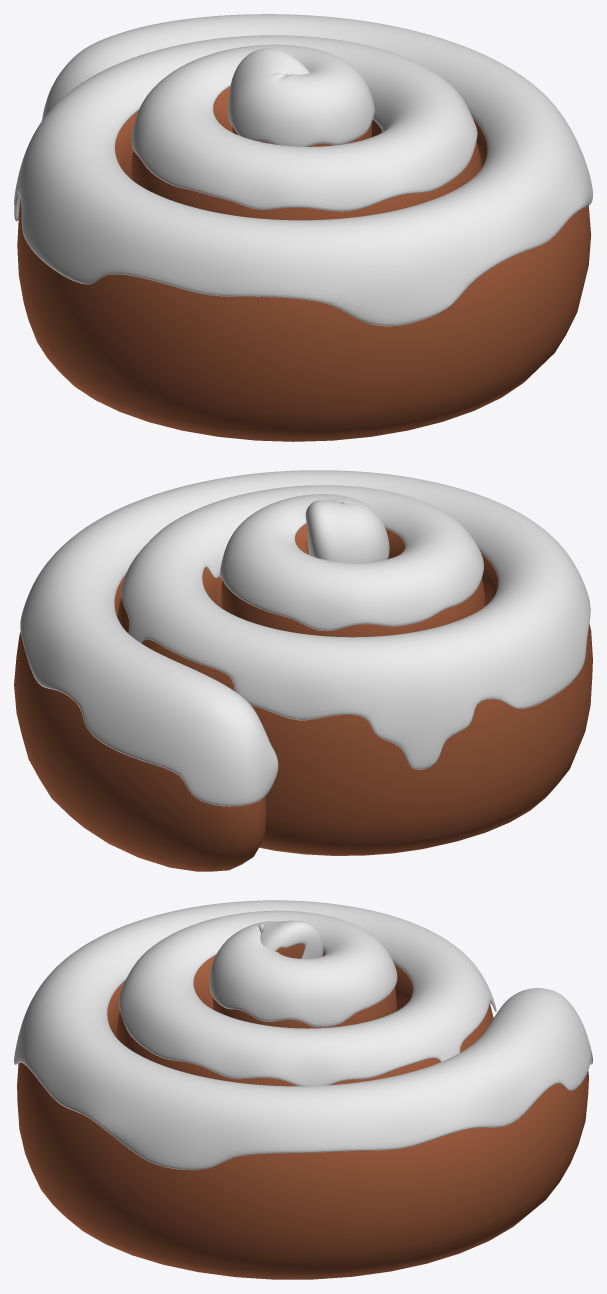
File: cinnamon-roll.fbx
3 views of the same model, one above another, from view 1: azimuth 30°, elevation 25°; view 2: azimuth 150°, elevation 25°; view 3: azimuth 270°, elevation 25° (orthographic). The views are drawn at different scales.
Visible parts, largest first — view 1: glaze, cinnamon-roll; view 2: glaze, cinnamon-roll; view 3: glaze, cinnamon-roll.
Part boxes in pixels (x1,y1,x2,y2): glaze: [14, 14, 592, 326]; cinnamon-roll: [17, 86, 591, 441]; glaze: [20, 470, 590, 806]; cinnamon-roll: [14, 523, 592, 871]; glaze: [14, 900, 592, 1170]; cinnamon-roll: [17, 943, 588, 1279].
Bounding box in the file's own units: 412 × 220 × 450.
